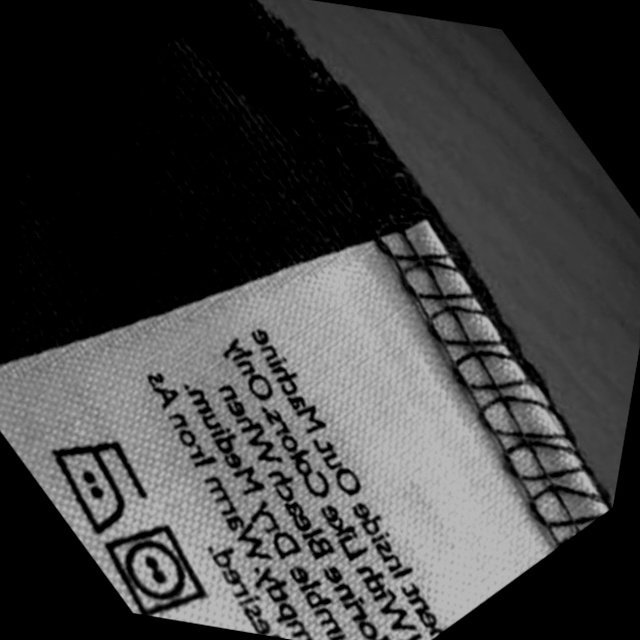iron_medium: (34, 429, 154, 538)
tumble_dry_medium: (92, 516, 215, 622)
